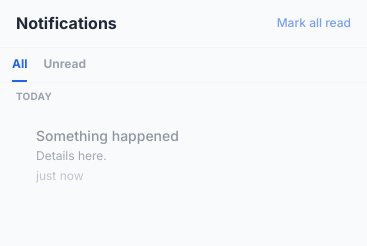
Scenario: NotificationPanel › shows a distinct empty state when a filter matches nothing
This screenshot has width=367, height=246.
Click the button "Unread" at [65, 69], box top-left (44, 56), bottom-right (86, 82)
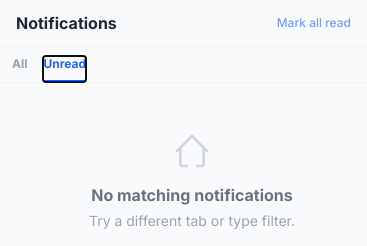
Expected: the text "No matching notifications" is shown, top-left (91, 183), bottom-right (293, 207)
